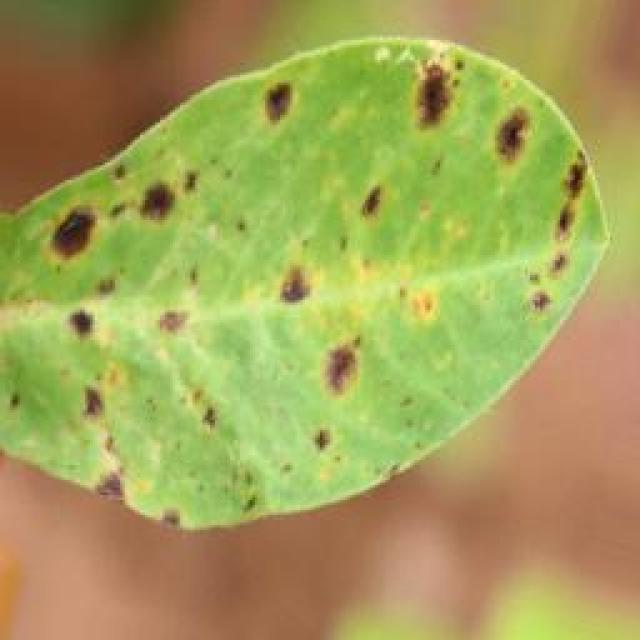Yellowish: (31, 26, 613, 510)
